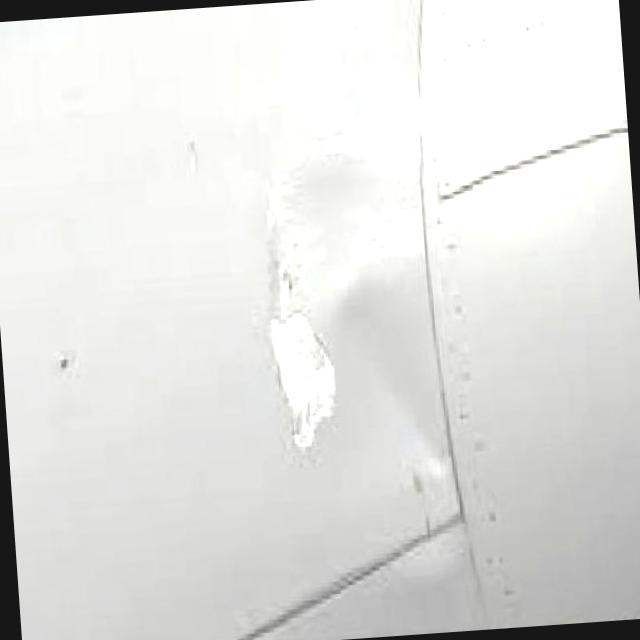dent: (330, 256, 453, 504), (253, 132, 343, 458), (284, 124, 415, 310)
